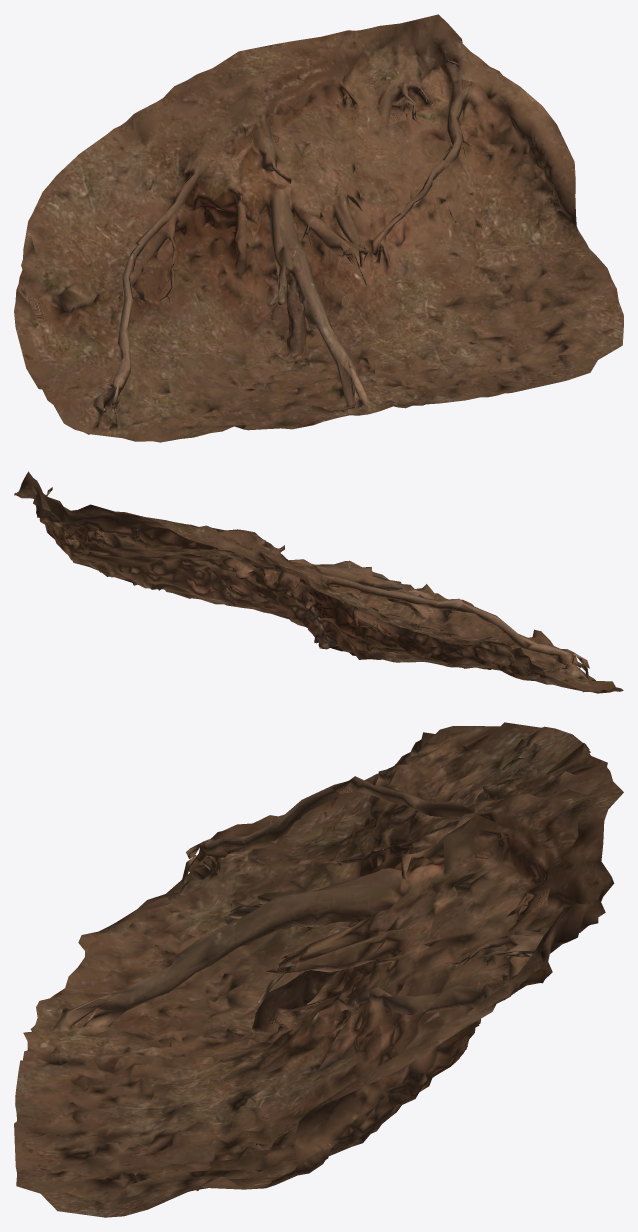
File: root_cluster_01.glb
The picture shows the model from 3 angles, top to bottom: view 1: azimuth 30°, elevation 25°; view 2: azimuth 150°, elevation 25°; view 3: azimuth 270°, elevation 25°; orthographic projection. The views are drawn at different scales.
Parts seen in each view (by area): view 1: root_cluster_01; view 2: root_cluster_01; view 3: root_cluster_01.
Boxes of the visible parts, x1=… form: root_cluster_01: x1=14, y1=14, x2=623, y2=442; root_cluster_01: x1=14, y1=471, x2=623, y2=693; root_cluster_01: x1=14, y1=722, x2=623, y2=1217.
Bounding box in the file's own units: 4.12 × 1.51 × 2.68.
Materials: 1 (1 with a texture image).
